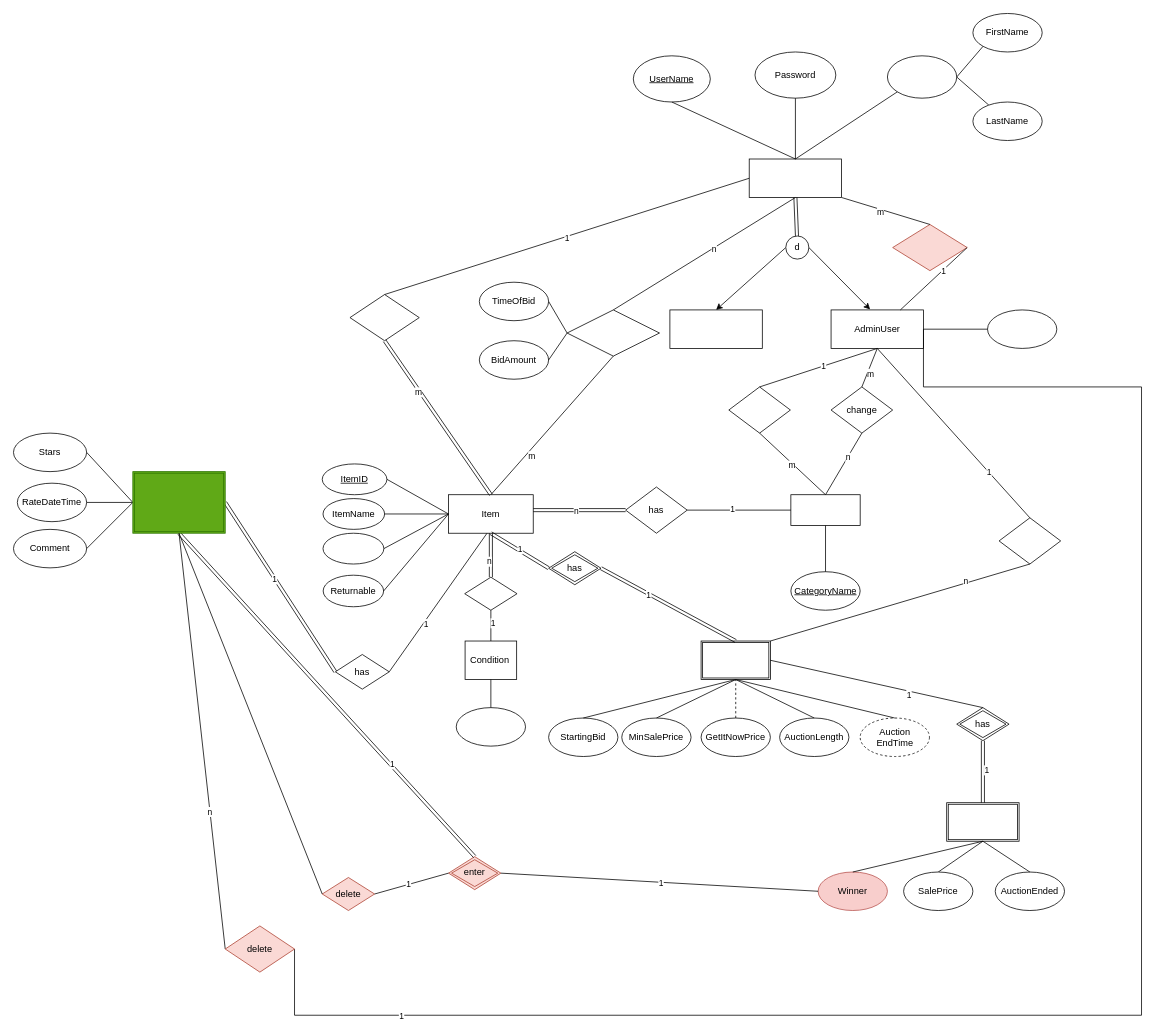
This 1156x1034 diagram has some shape labels left out. The centre of each missing label's shape, as x and y in pixels:
"add" belongs at pixel 759 409.
"Auction" belongs at pixel 735 660.
"AuctionResult" belongs at pixel 982 821.
"bid" belongs at pixel 613 332.
"cancel" belongs at pixel 1029 540.
"cancel request" belongs at pixel 929 247.
"Category" belongs at pixel 825 510.
"ConditionName" belongs at pixel 490 726.
"Description" belongs at pixel 353 548.
"is" belongs at pixel 490 593.
"ItemRating" belongs at pixel 178 502.
"list" belongs at pixel 384 317.
"Name" belongs at pixel 922 76.
"Position" belongs at pixel 1022 328.
"RegularUser" belongs at pixel 715 328.
"User" belongs at pixel 795 178.
